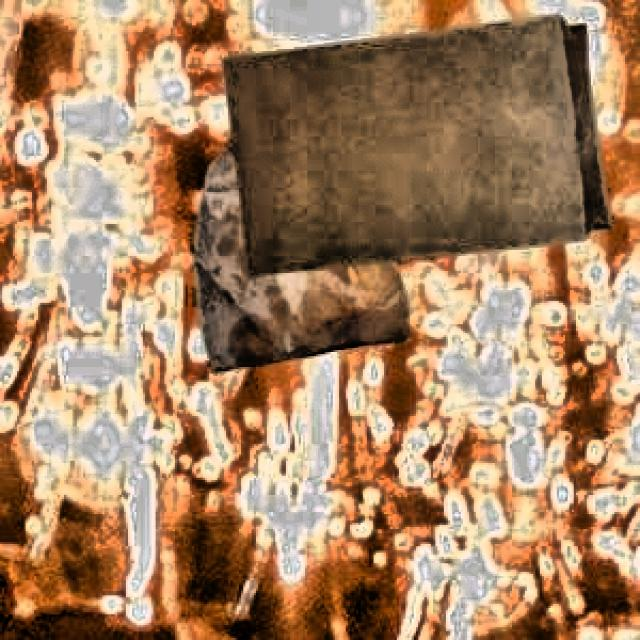Paper-bag: (203, 6, 625, 262), (175, 107, 441, 375)
